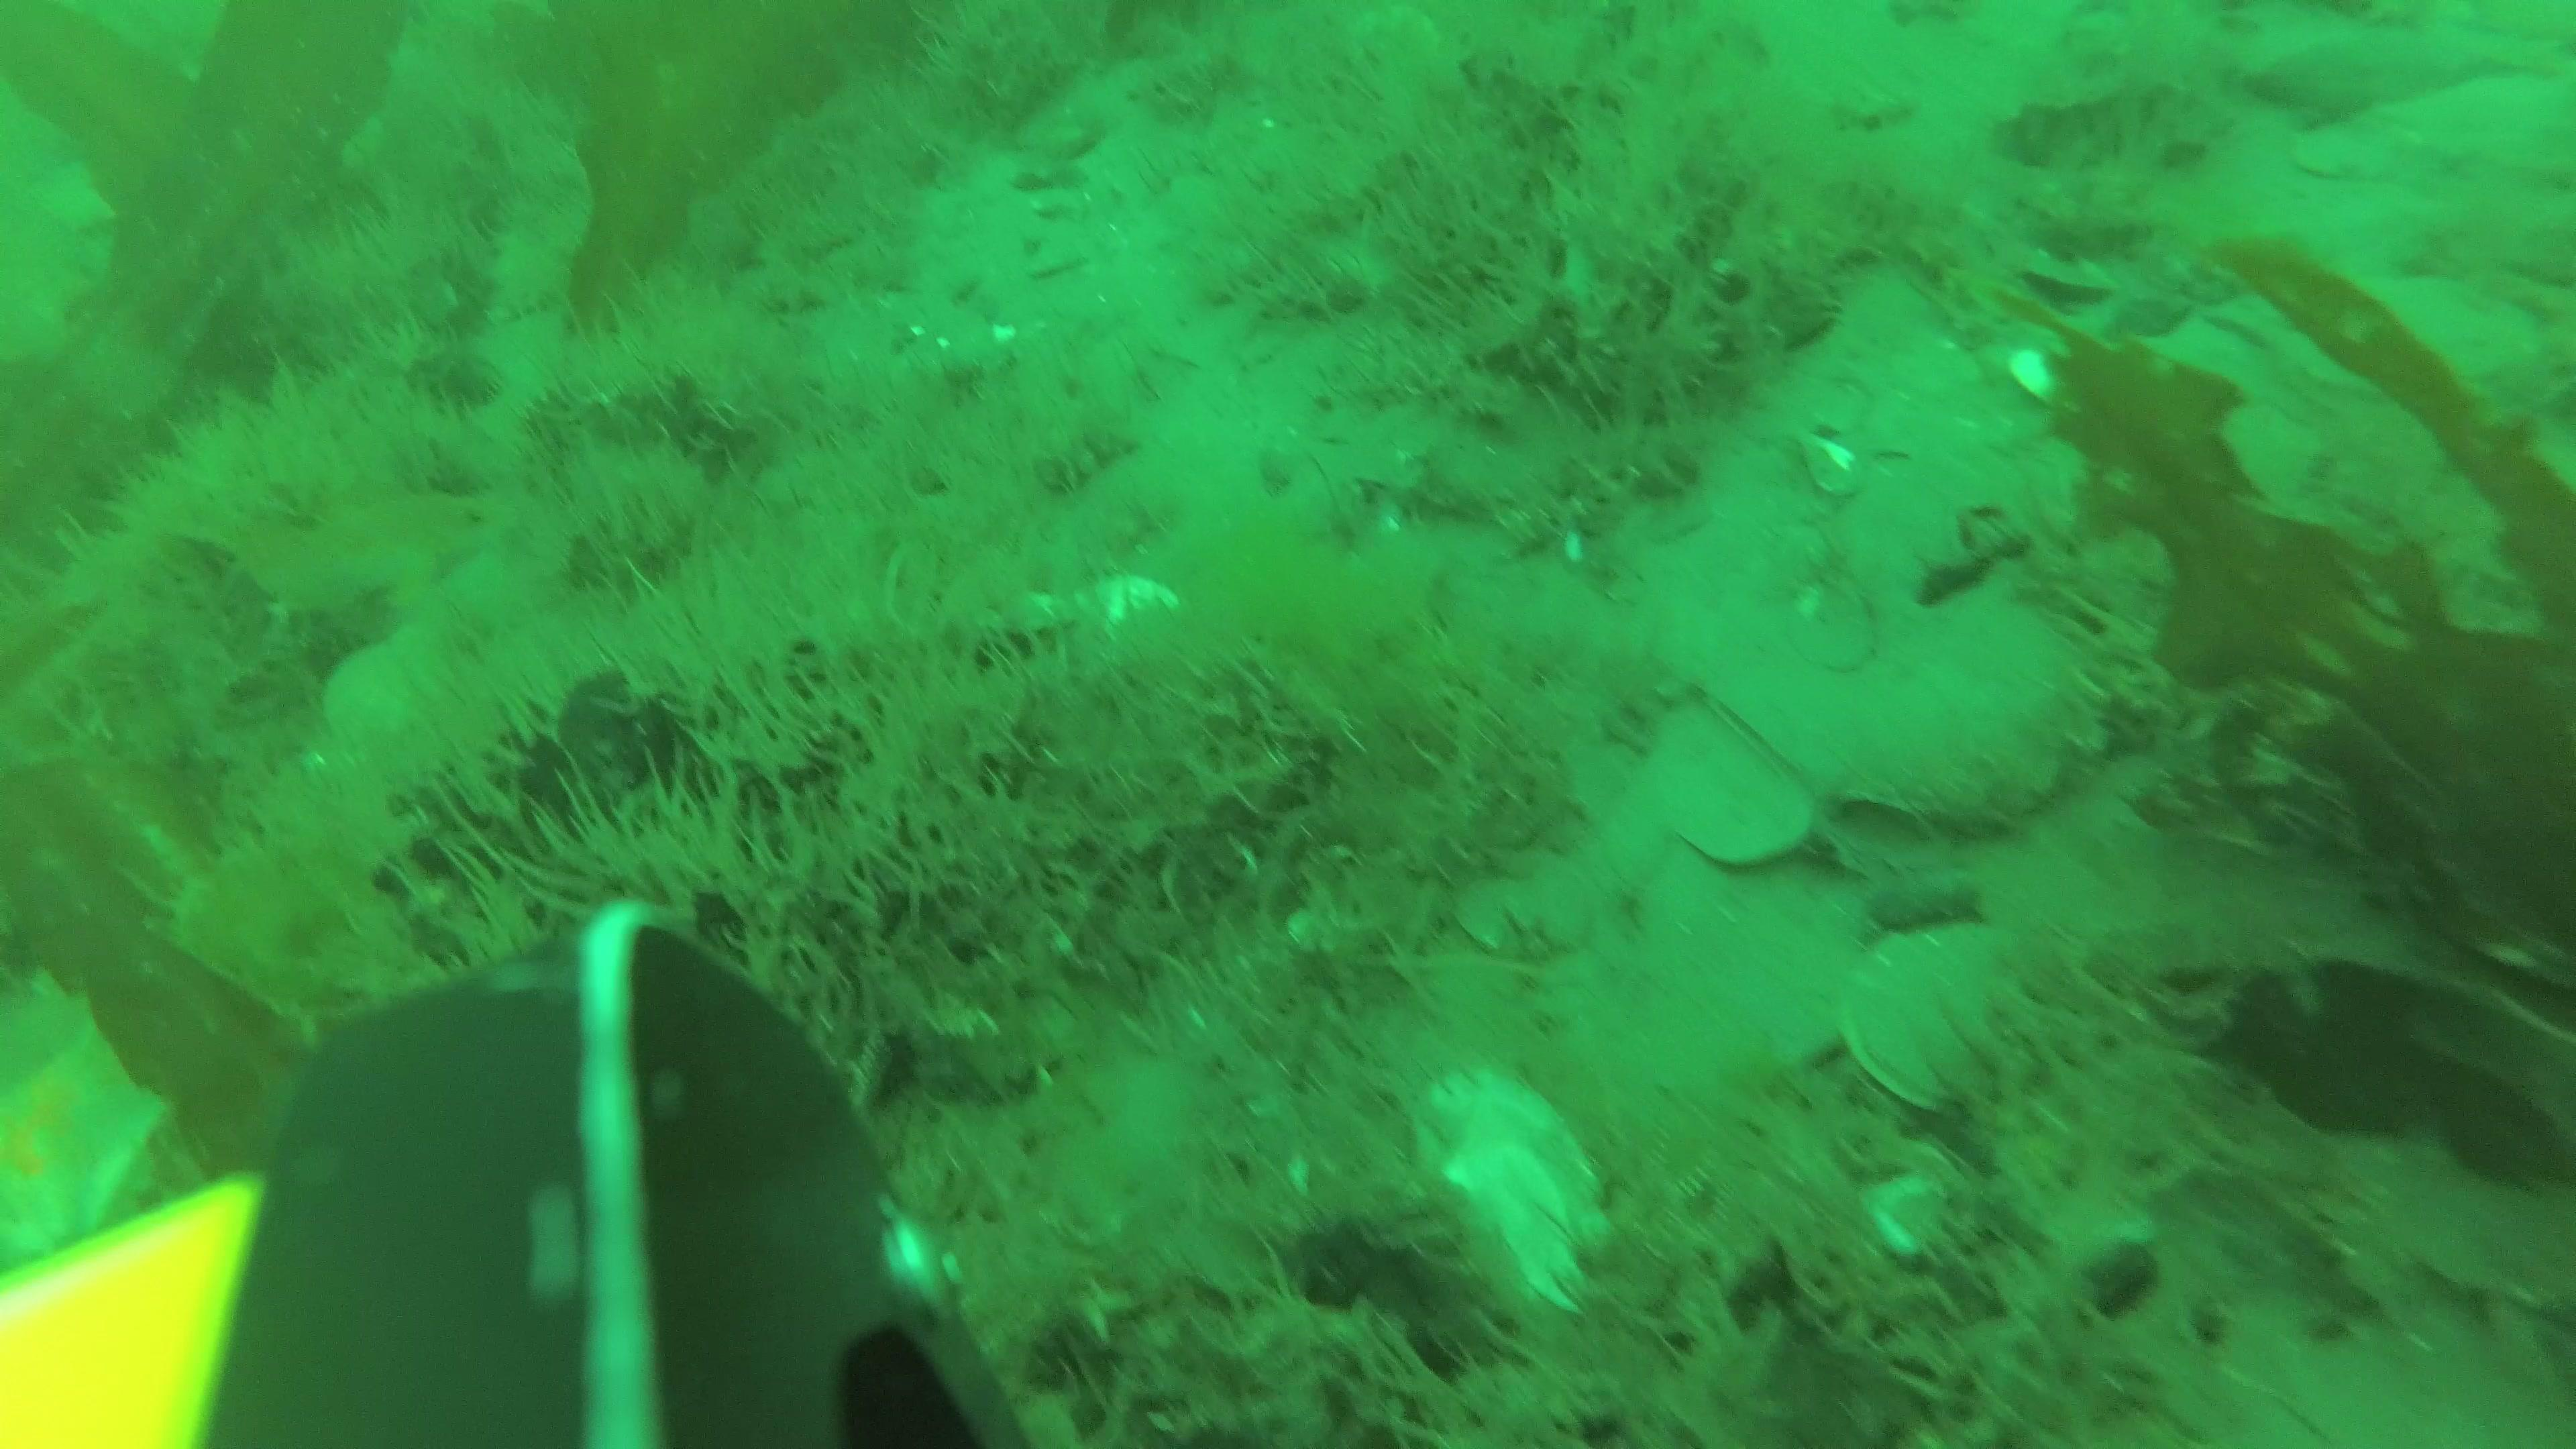scallop: (1415, 1072, 1603, 1322), (1845, 915, 2031, 1118), (322, 628, 483, 763), (1070, 570, 1178, 639), (2003, 347, 2091, 416), (2295, 117, 2385, 184)
